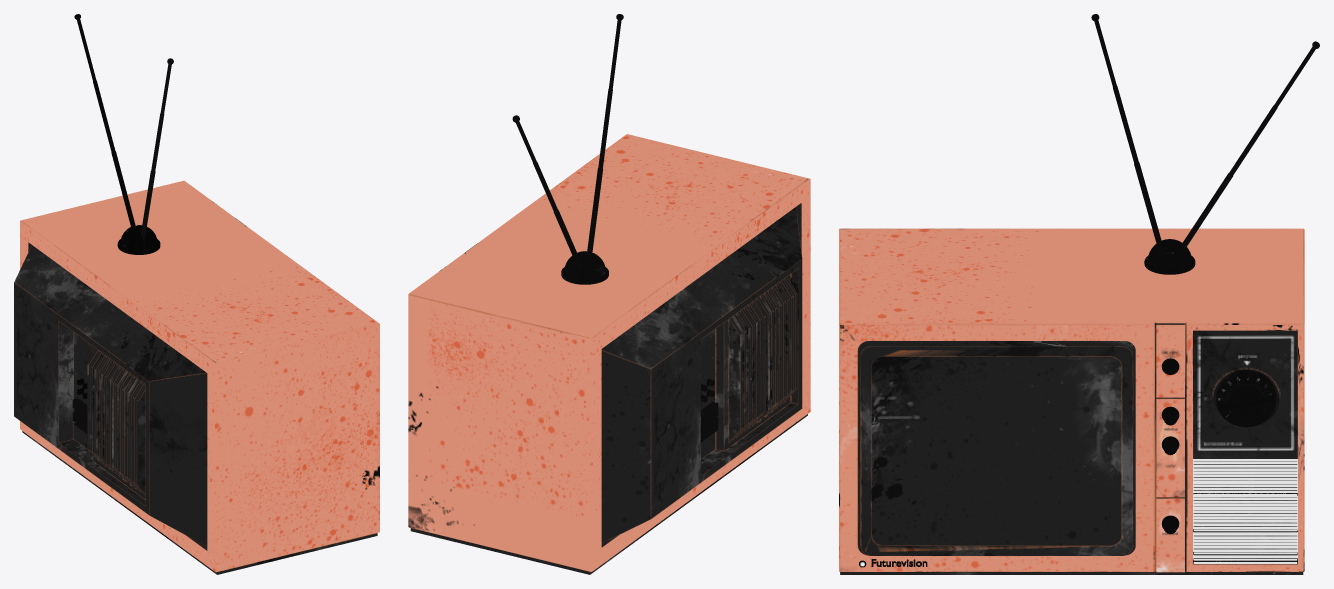
File: old_analog_tv_with_antenas.glb
3 renders of one model, left to right at view 1: azimuth 30°, elevation 25°; view 2: azimuth 150°, elevation 25°; view 3: azimuth 270°, elevation 25°, orthographic. The views are drawn at different scales.
Parts seen in each view (by area): view 1: tv.007_20, antena.001_2, anthena holder.001_3, antena 2.001_1; view 2: tv.007_20, antena 2.001_1, anthena holder.001_3, antena.001_2, tv.006_18; view 3: tv.007_20, tv.003_0, big button.001_4, antena.001_2, antena 2.001_1, anthena holder.001_3, tv.004_17.
Part boxes in pixels (x1,y1,x2,y2): tv.007_20: [14, 180, 379, 574]; antena.001_2: [74, 14, 135, 227]; anthena holder.001_3: [117, 225, 160, 254]; antena 2.001_1: [141, 58, 173, 241]; tv.007_20: [408, 134, 810, 574]; antena 2.001_1: [586, 14, 623, 255]; anthena holder.001_3: [561, 251, 608, 284]; antena.001_2: [512, 115, 581, 270]; tv.006_18: [701, 401, 718, 442]; tv.007_20: [839, 228, 1304, 574]; tv.003_0: [1193, 459, 1297, 563]; big button.001_4: [1216, 370, 1276, 427]; antena.001_2: [1181, 41, 1319, 248]; antena 2.001_1: [1091, 14, 1162, 246]; anthena holder.001_3: [1144, 239, 1195, 274]; tv.004_17: [1193, 493, 1297, 564].
Bounding box in the file's own units: 0.5341 × 1.01 × 0.8767.
Materials: 8 (7 with a texture image).
